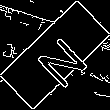N_NW: (23, 23, 87, 87)
